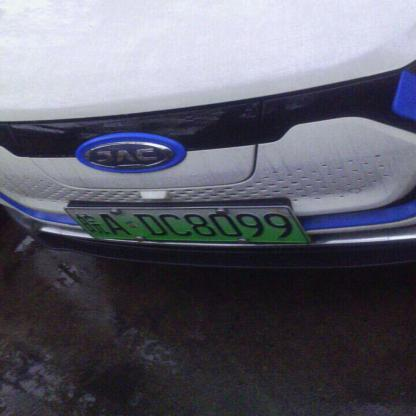lp: (65, 208, 309, 241)
